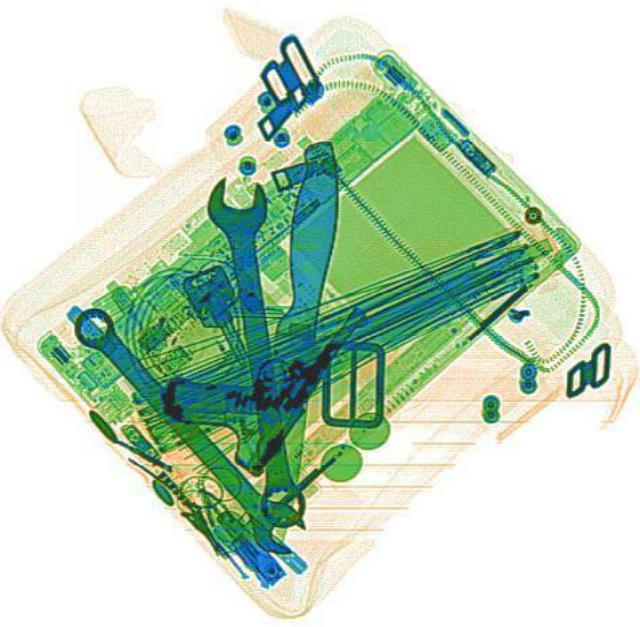Gun: (142, 248, 372, 477)
Knife: (252, 137, 342, 534)
Wrench: (63, 300, 315, 555), (200, 170, 312, 527)
